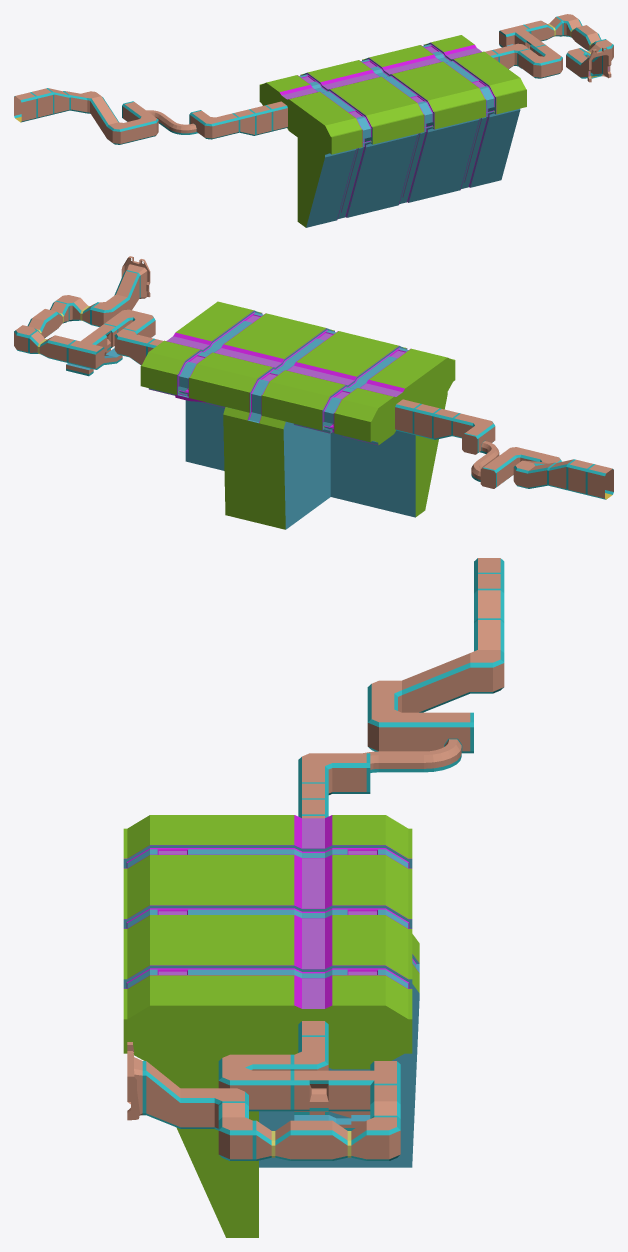
The model's file is cluster_interior.fbx.
The picture shows the model from 3 angles, top to bottom: view 1: azimuth 30°, elevation 25°; view 2: azimuth 150°, elevation 25°; view 3: azimuth 270°, elevation 25°; orthographic projection. The views are drawn at different scales.
Parts seen in each view (by area): view 1: cluster_interior; view 2: cluster_interior; view 3: cluster_interior.
Boxes of the visible parts, x1=… form: cluster_interior: x1=14, y1=14, x2=613, y2=227; cluster_interior: x1=14, y1=256, x2=613, y2=529; cluster_interior: x1=123, y1=558, x2=504, y2=1237.
Bounding box in the file's own units: 3230791 × 790000 × 1002786.
